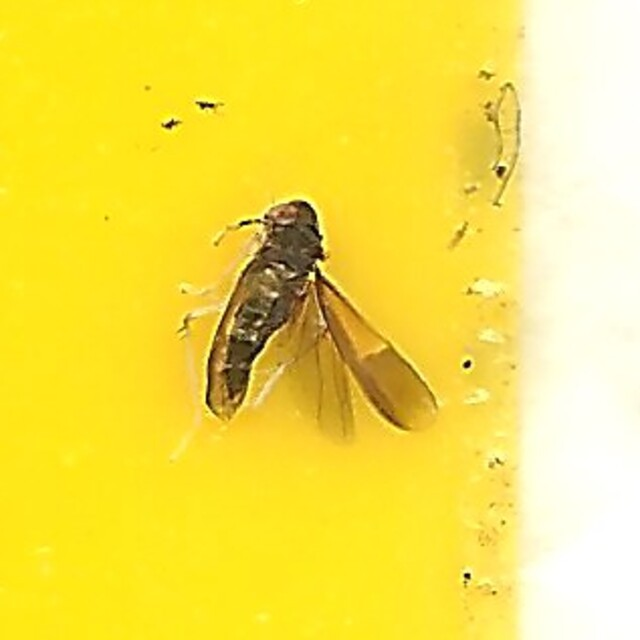Hemiptera: (202, 196, 438, 444)
